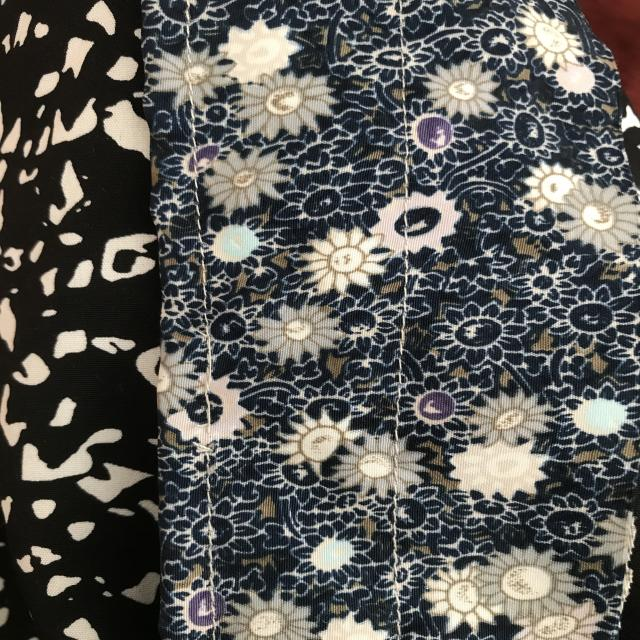good: (390, 276, 412, 366)
